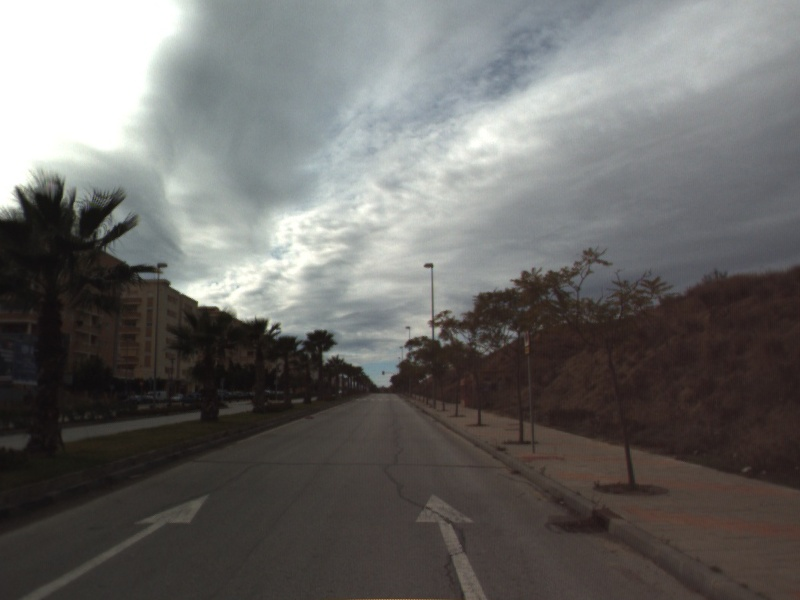STRAIGHT: (16, 491, 213, 600), (413, 491, 490, 600)
